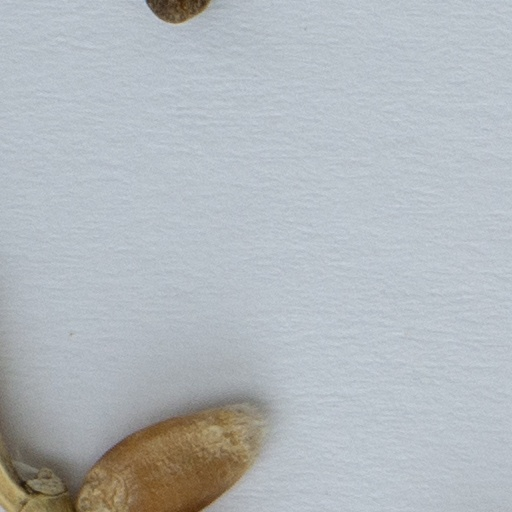Peel-poly: (0, 426, 79, 511)
Wheat-grain-poly: (75, 402, 266, 511)
